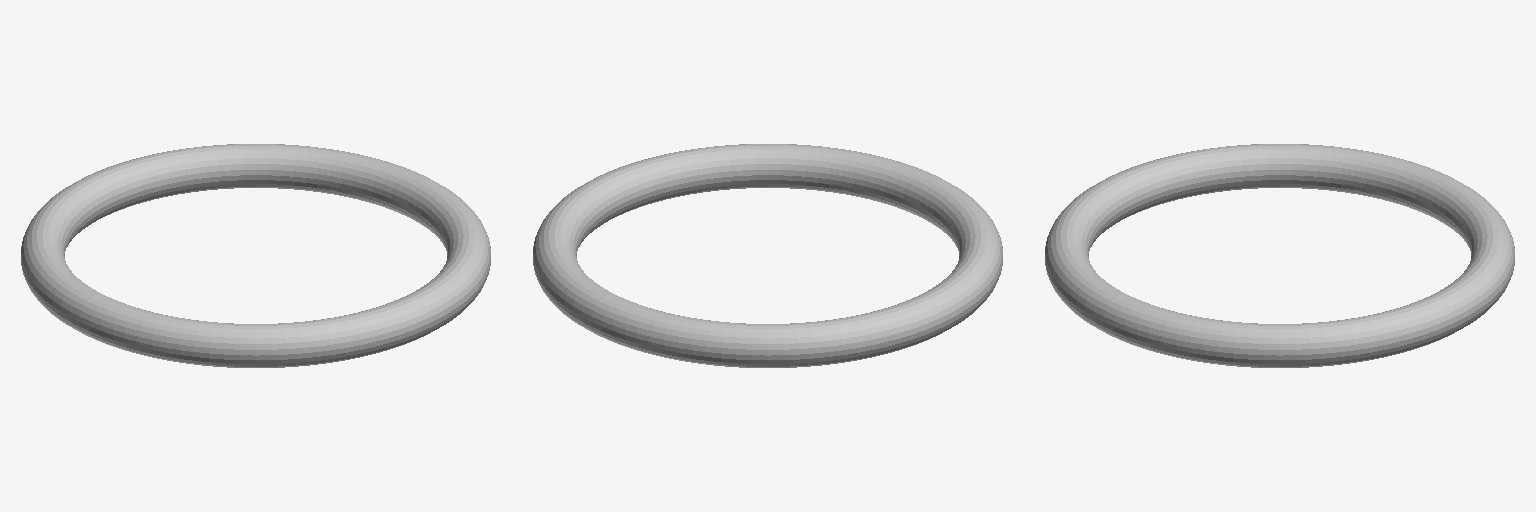
File: ring.obj
The picture shows the model from 3 angles: view 1: azimuth 30°, elevation 25°; view 2: azimuth 150°, elevation 25°; view 3: azimuth 270°, elevation 25°; orthographic projection.
Parts seen in each view (by area): view 1: Torus.001; view 2: Torus.001; view 3: Torus.001.
Part boxes in pixels (x1,y1,x2,y2): Torus.001: (21, 144, 490, 367); Torus.001: (533, 144, 1002, 367); Torus.001: (1045, 144, 1514, 367).
Size of the model in its own units: 2.67 by 0.2513 by 2.67.